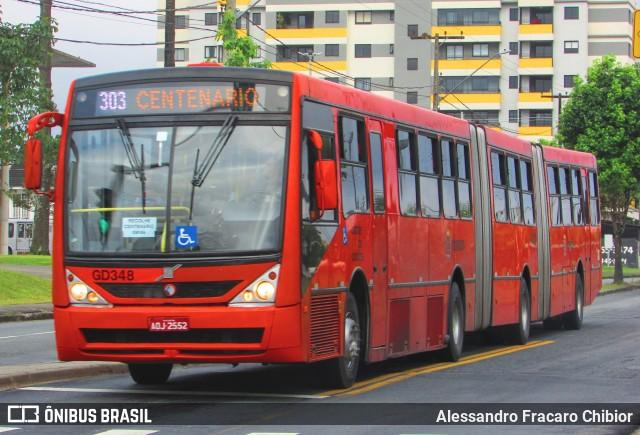CENTENARIO: (131, 85, 262, 114)
